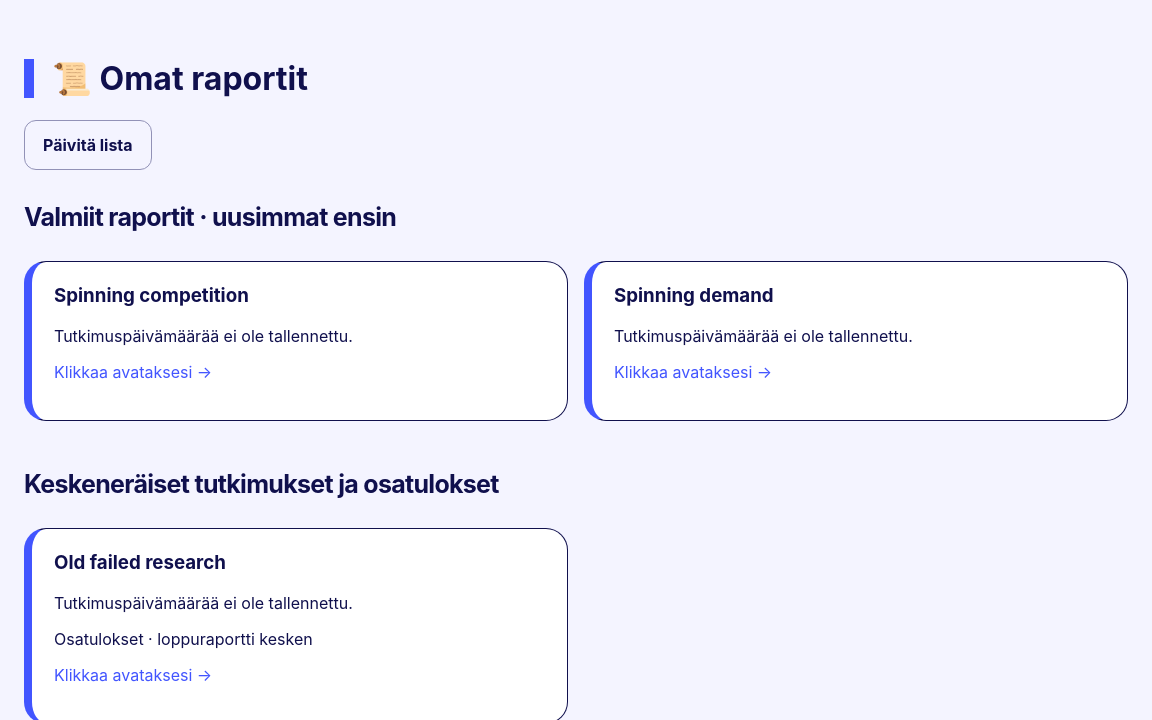
shows newest completed reports before older unfinished jobs and can refresh
Expected: the heading "Spinning competition" is shown, [54,284,249,307]
Expected: the headings read "Spinning competition", "Spinning demand", "Old failed research", in this order, [54,284,249,307]; [614,284,774,307]; [54,551,226,574]
Click the button "Päivitä lista" at (88, 145), box [24,120,152,170]
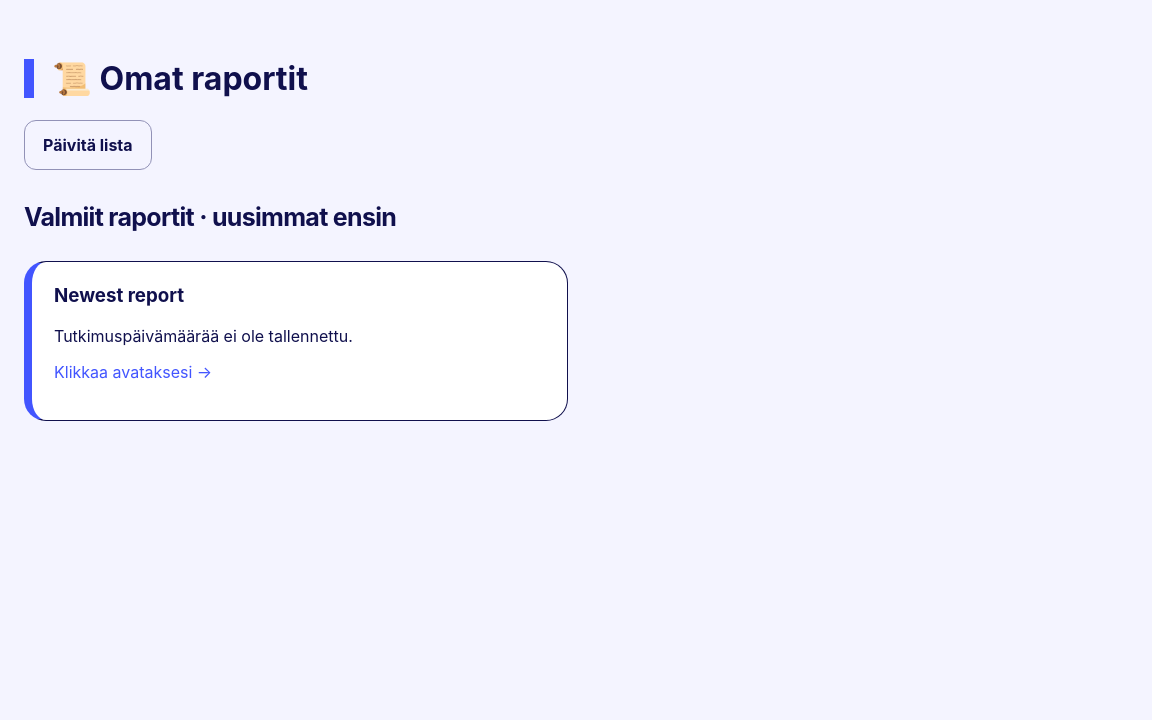
Result: the heading "Newest report" is shown at [54,284,184,307]
Result: the heading "Old failed research" is gone
